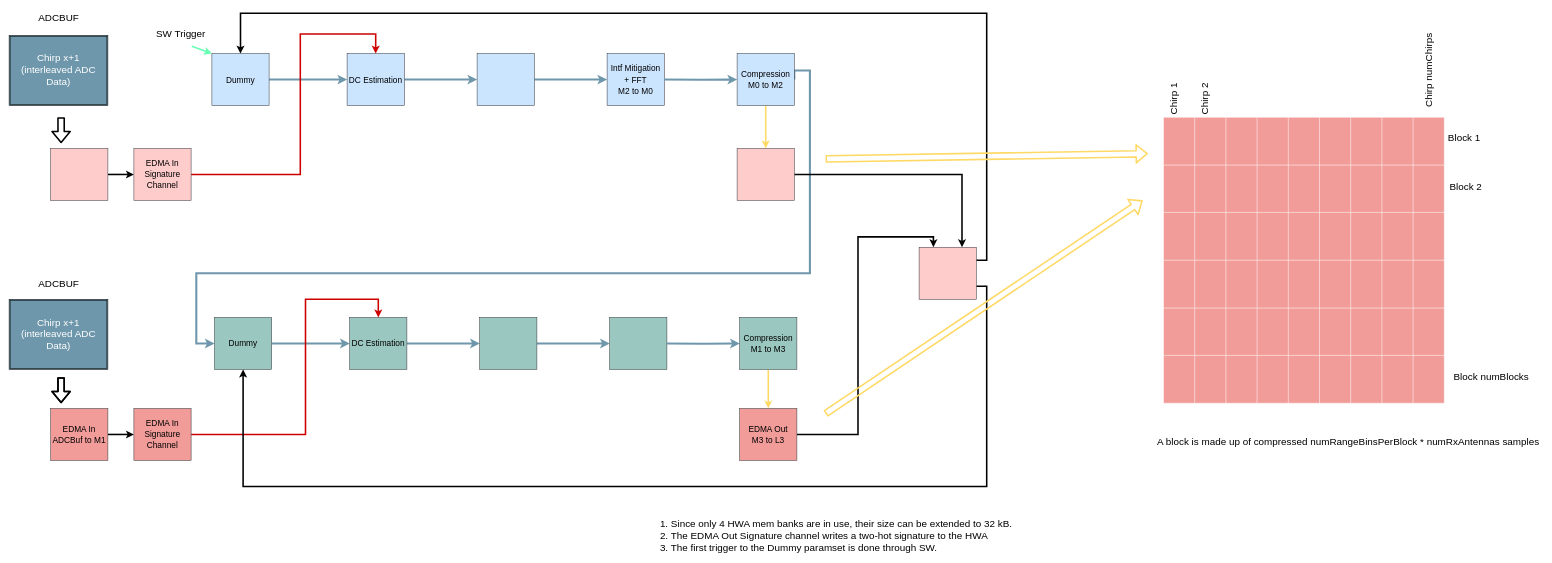
Image size: 1552x563. Some labels were removed from this diagram. The centre of each missing label's shape, as x and y in pixels:
DC Sub + Intf Stats M0 to M2: (x=505, y=79)
DC Sub + Intf Stats M1 to M3: (x=508, y=343)
EDMA In ADCBuf to M0: (x=79, y=174)
EDMA Out M2 to L3: (x=765, y=174)
EDMA Out Signature Channel: (x=947, y=273)
Intf Mitigation + FFT M3 to M1: (x=638, y=343)
